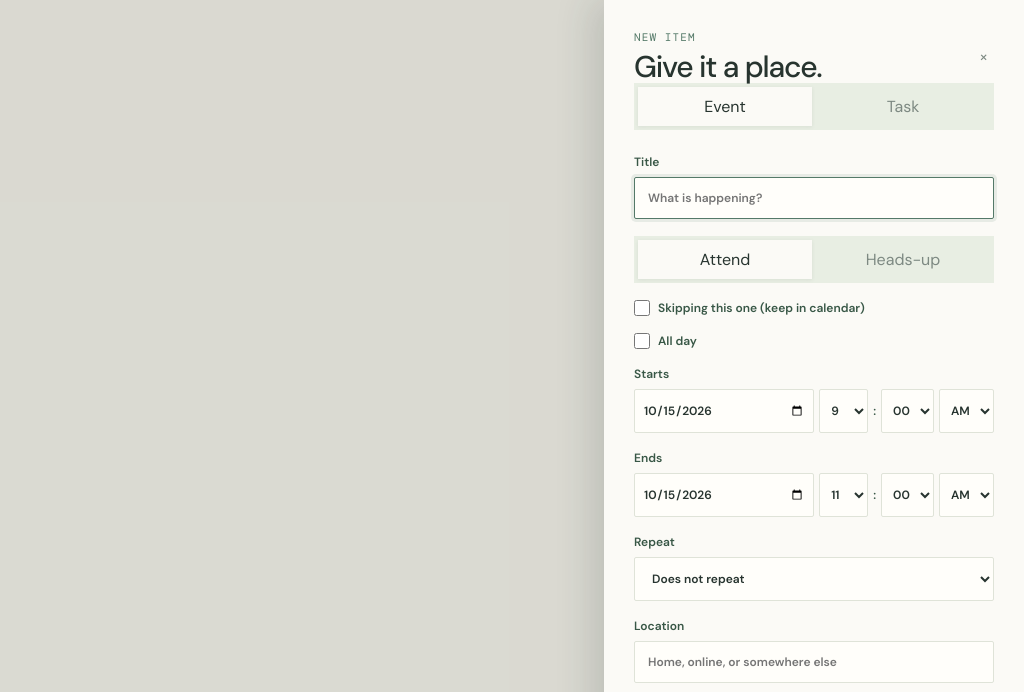
it: ComposerDrawer commute fields › defaults to Attend and shows skipping only for Attend
The image size is (1024, 692).
expect the checkbox labelled "Skipping this one (keep in calendar)" is shown: met, box 634,300 -> 650,316
Step 1. Click the button "Heads-up" → {"x": 903, "y": 259}, box 816,240 -> 990,278
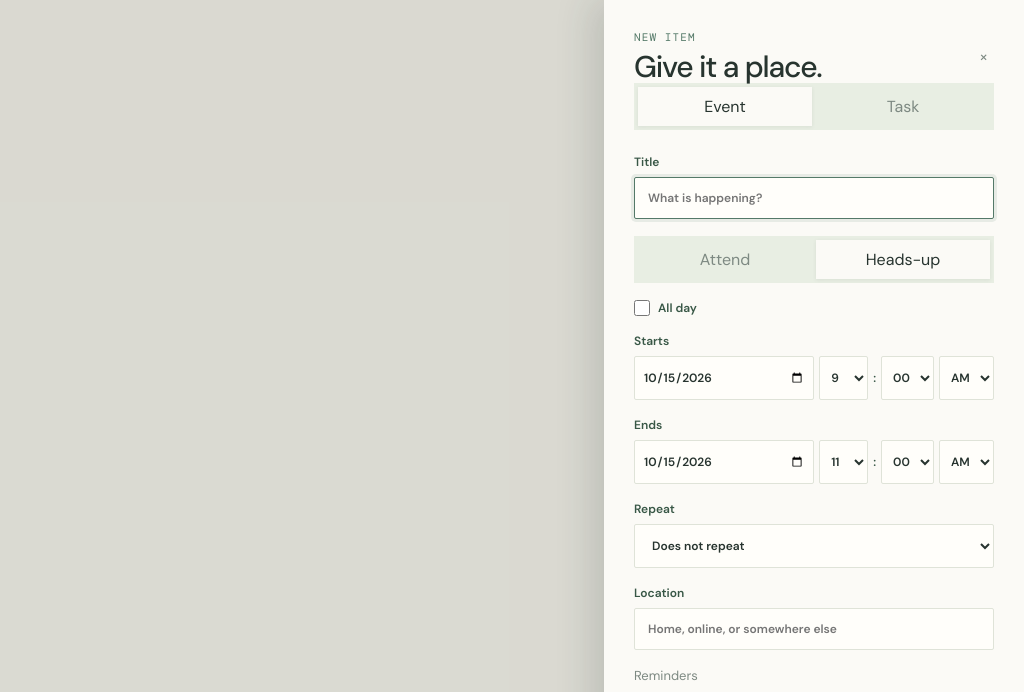
expect the label labelled "Skipping this one" is gone: met
